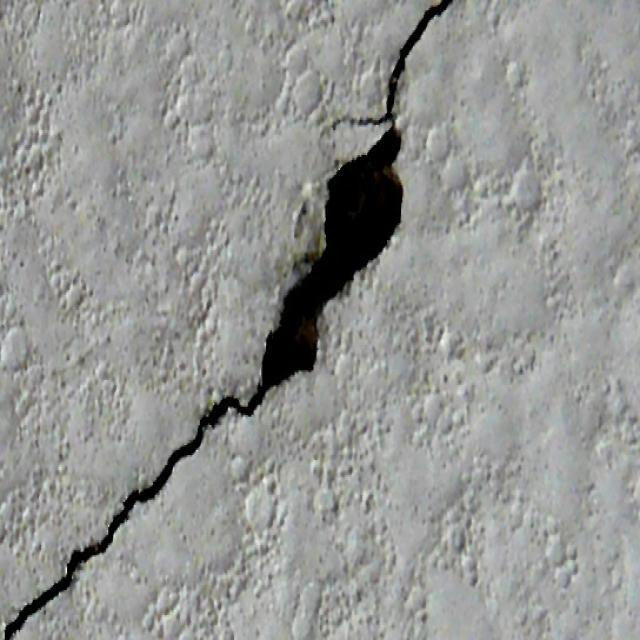Diagonal: (0, 394, 252, 640)
Longitudinal: (367, 0, 473, 129)
Rippled: (255, 133, 431, 397)
